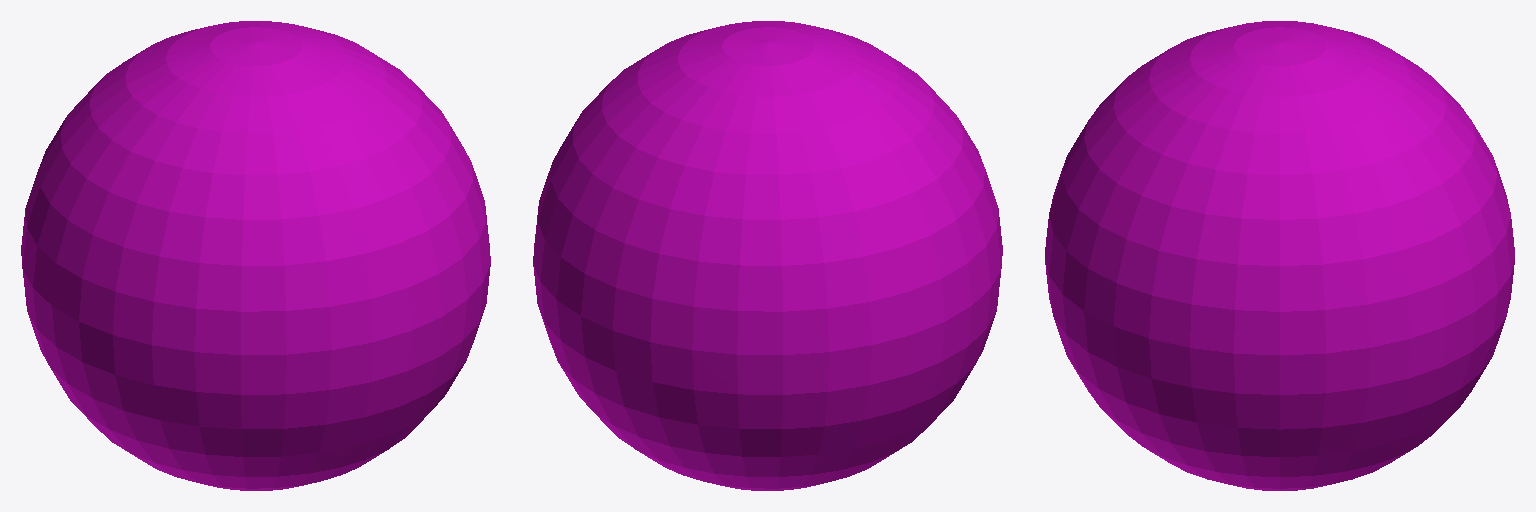
File: bomb.obj
3 renders of one model, left to right at view 1: azimuth 30°, elevation 25°; view 2: azimuth 150°, elevation 25°; view 3: azimuth 270°, elevation 25°, orthographic.
Parts seen in each view (by area): view 1: Sphere; view 2: Sphere; view 3: Sphere.
Boxes of the visible parts, box(x1,y1,x2,y2) form: Sphere: box(21, 21, 490, 490); Sphere: box(533, 21, 1002, 490); Sphere: box(1045, 21, 1514, 490).
Bounding box in the file's own units: 0.15 × 0.15 × 0.15.